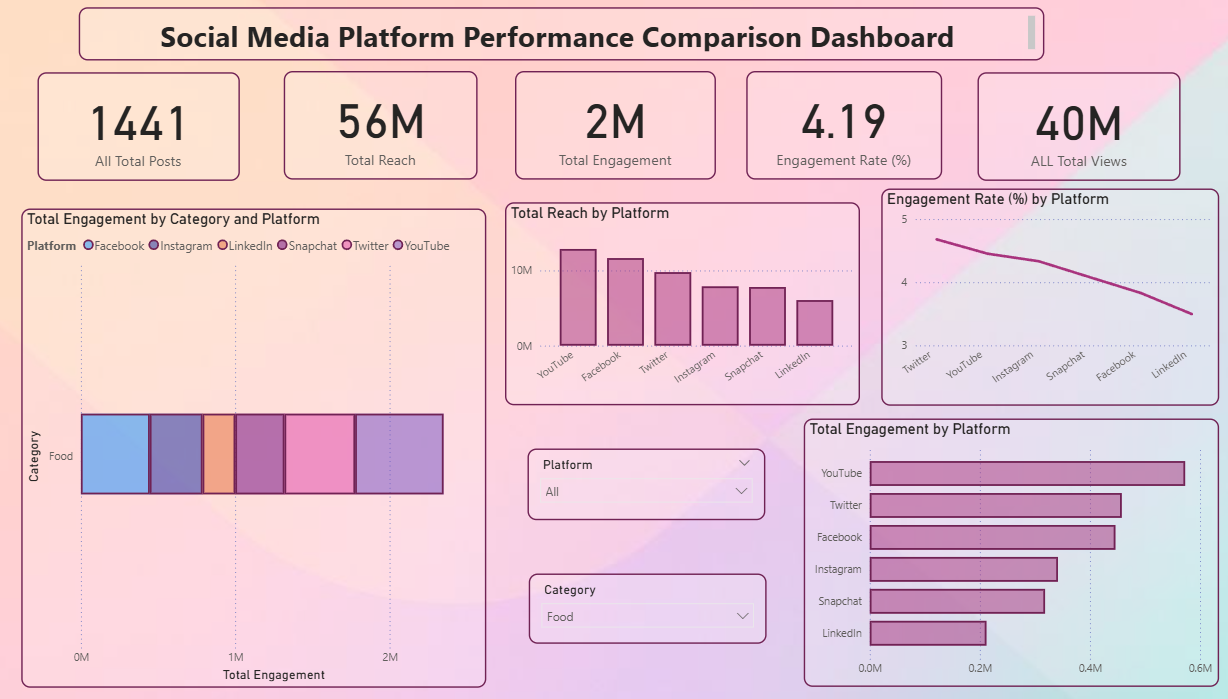

The page's visual inventory and layout, read from the dashboard file:
{"tool":"powerbi","page":{"name":"Comparison Dashboard","canvas":[1400,800],"ordinal":7},"visuals":[{"type":"textbox","box":[94.1,12.1,1088.2,60.3],"z":0},{"type":"card","fields":{"Values":["contentdata.All Total Posts"]},"box":[47.2,86.1,227.8,122.2],"z":1000},{"type":"card","fields":{"Values":["contentdata.Total Reach"]},"box":[325,84.7,218.1,122.2],"z":2000},{"type":"card","fields":{"Values":["contentdata.Total Engagement"]},"box":[586.1,84.7,226.4,122.2],"z":3000},{"type":"card","fields":{"Values":["contentdata.Engagement Rate (%)"]},"box":[845.8,84.7,220.8,122.2],"z":4000},{"type":"card","fields":{"Values":["contentdata.ALL Total Views"]},"box":[1106.9,86.1,229.2,122.2],"z":5000},{"type":"clusteredColumnChart","fields":{"Category":["contentdata.Platform"],"Y":["contentdata.Total Reach"]},"box":[575,231.9,400,229.2],"z":6000},{"type":"clusteredBarChart","fields":{"Category":["contentdata.Platform"],"Y":["contentdata.Total Engagement"]},"box":[911.1,476.4,468.1,302.8],"z":7000},{"type":"lineChart","fields":{"Category":["contentdata.Platform"],"Y":["contentdata.Engagement Rate (%)"]},"box":[998.6,216.7,380.6,244.4],"z":8000},{"type":"barChart","fields":{"Category":["contentdata.Category"],"Y":["contentdata.Total Engagement"],"Series":["contentdata.Platform"]},"box":[29.2,238.9,523.6,540.3],"z":9000},{"type":"slicer","fields":{"Values":["contentdata.Platform"]},"box":[600,509.7,268.1,80.6],"z":10000},{"type":"slicer","fields":{"Values":["contentdata.Category"]},"box":[601.4,651.4,268.1,79.2],"z":11000}]}

Visuals, with their boxes in screenshot pixels (x1, y1, x2, y2), scaled from the page's 1400x800 canvas onto the 1228x699 screenshot:
textbox: region(83, 11, 1037, 63)
card - contentdata.All Total Posts: region(41, 75, 241, 182)
card - contentdata.Total Reach: region(285, 74, 476, 181)
card - contentdata.Total Engagement: region(514, 74, 713, 181)
card - contentdata.Engagement Rate (%): region(742, 74, 936, 181)
card - contentdata.ALL Total Views: region(971, 75, 1172, 182)
clusteredColumnChart - contentdata.Platform x contentdata.Total Reach: region(504, 203, 855, 403)
clusteredBarChart - contentdata.Platform x contentdata.Total Engagement: region(799, 416, 1210, 681)
lineChart - contentdata.Platform x contentdata.Engagement Rate (%): region(876, 189, 1210, 403)
barChart - contentdata.Category x contentdata.Total Engagement: region(26, 209, 485, 681)
slicer - contentdata.Platform: region(526, 445, 761, 516)
slicer - contentdata.Category: region(528, 569, 763, 638)
